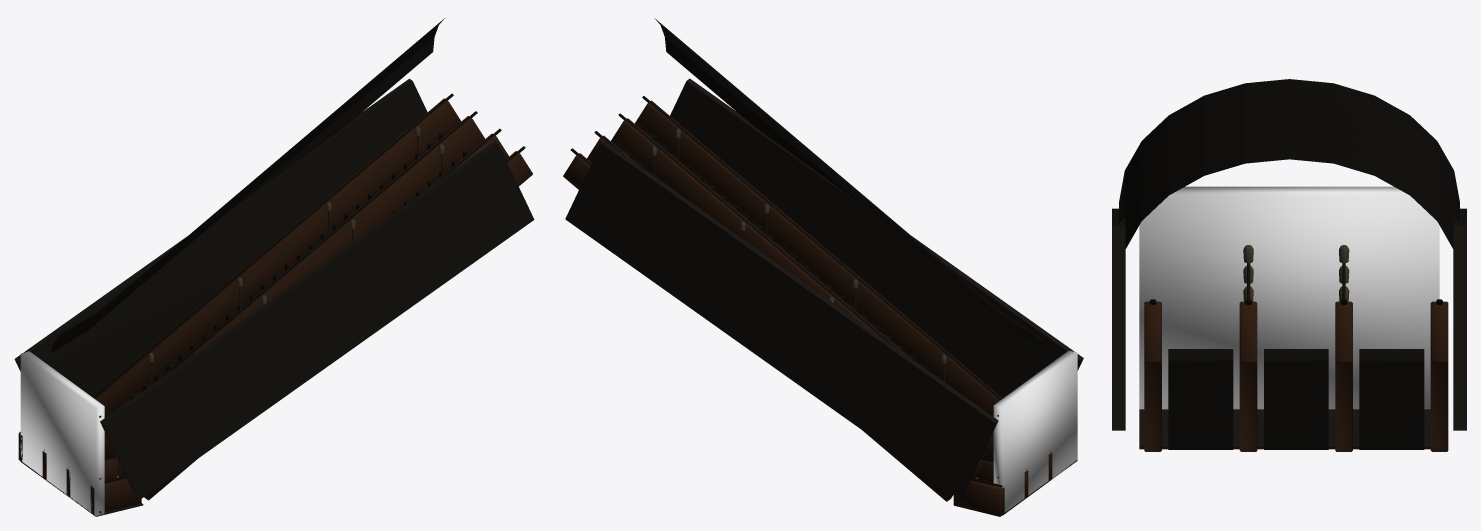
The model's file is escalera_mecanica.glb.
The picture shows the model from 3 angles, left to right: view 1: azimuth 30°, elevation 25°; view 2: azimuth 150°, elevation 25°; view 3: azimuth 270°, elevation 25°; orthographic projection. The views are drawn at different scales.
Visible parts, largest first — view 1: escaleras, reja-colcaja; view 2: escaleras, reja-colcaja; view 3: escaleras, reja-colcaja.
Part boxes in pixels (x1,y1,x2,y2): escaleras: [14, 18, 534, 516]; reja-colcaja: [20, 351, 104, 516]; escaleras: [563, 18, 1083, 516]; reja-colcaja: [993, 350, 1077, 512]; escaleras: [1112, 79, 1466, 451]; reja-colcaja: [1139, 186, 1439, 409].
Size of the model in its own units: 14.81 by 11.82 by 5.2.
